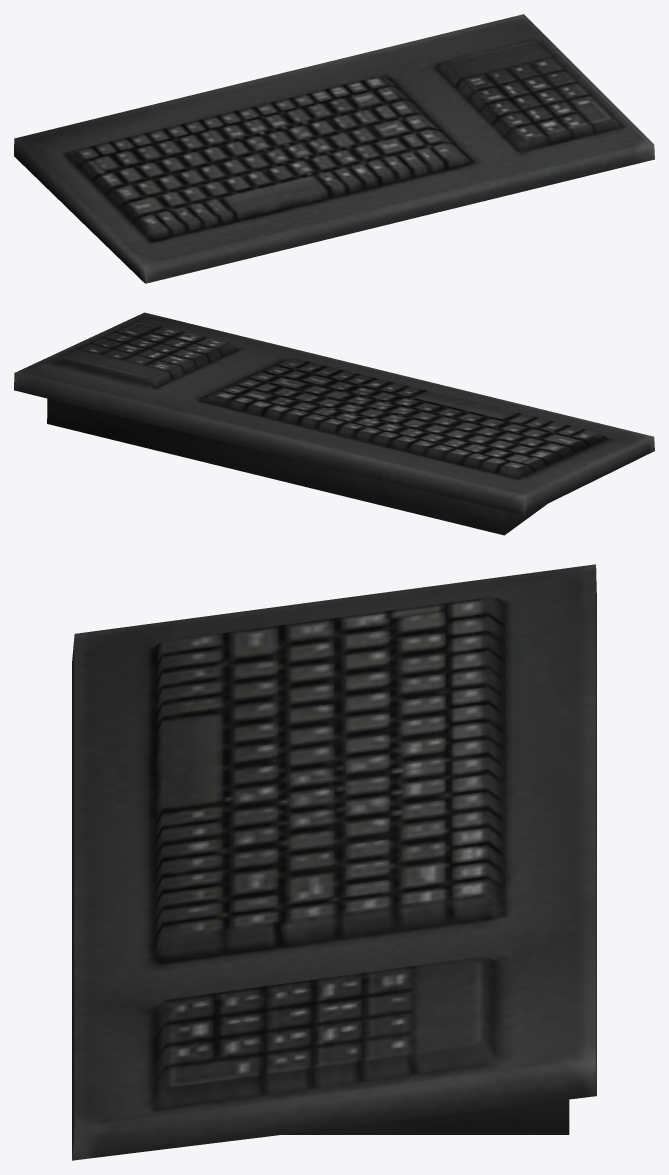
The model's file is keyboard.glb.
3 views of the same model, one above another, from view 1: azimuth 30°, elevation 25°; view 2: azimuth 150°, elevation 25°; view 3: azimuth 270°, elevation 25° (orthographic). The views are drawn at different scales.
Parts seen in each view (by area): view 1: default; view 2: default; view 3: default.
Part boxes in pixels (box(x1,y1,x2,y2)): default: box(14, 14, 654, 283); default: box(14, 312, 654, 535); default: box(72, 564, 596, 1160).
Size of the model in its own units: 39 by 3.62 by 17.4.
1 material, 1 textured.
